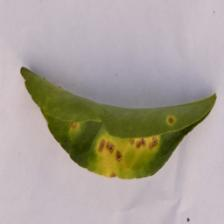canker: (65, 114, 172, 186)
